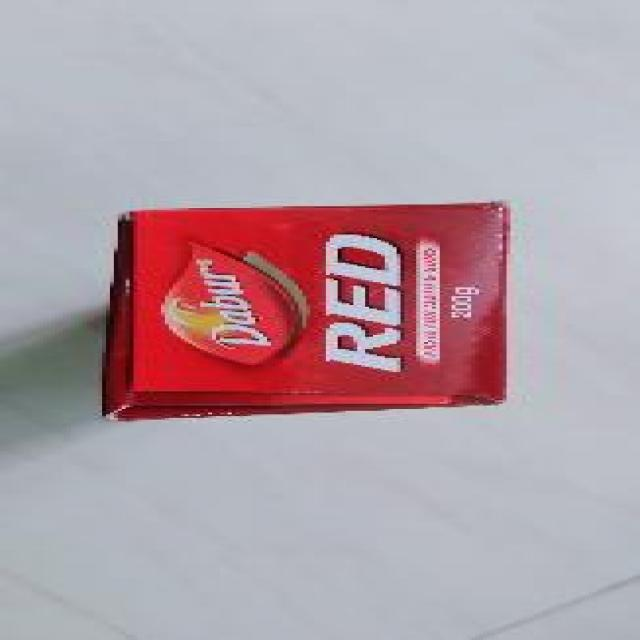tooth paste: (75, 170, 521, 442)
